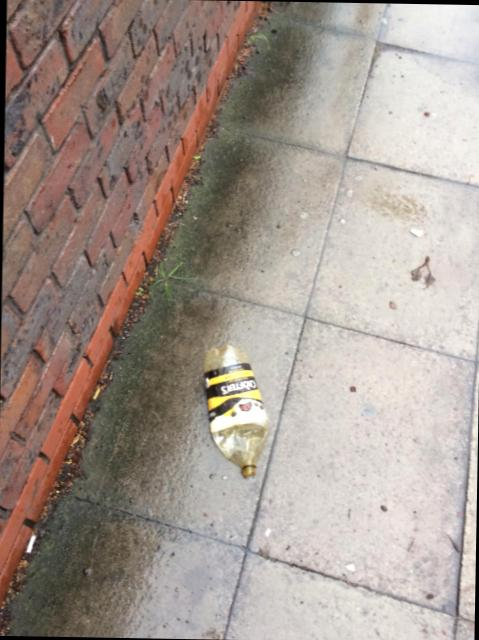plastic: (203, 344, 268, 476)
